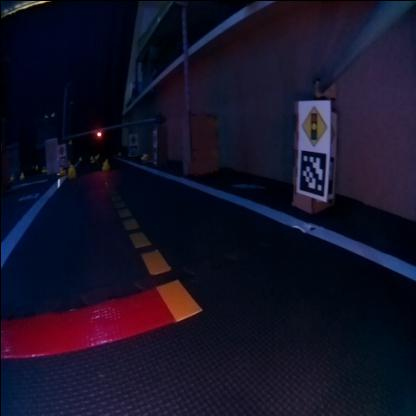Duckie: (66, 164, 74, 176), (100, 160, 106, 168), (140, 152, 146, 158)
QR code: (296, 152, 322, 194)
Signal sign: (300, 104, 326, 145)
Traffic light: (94, 127, 100, 136)
